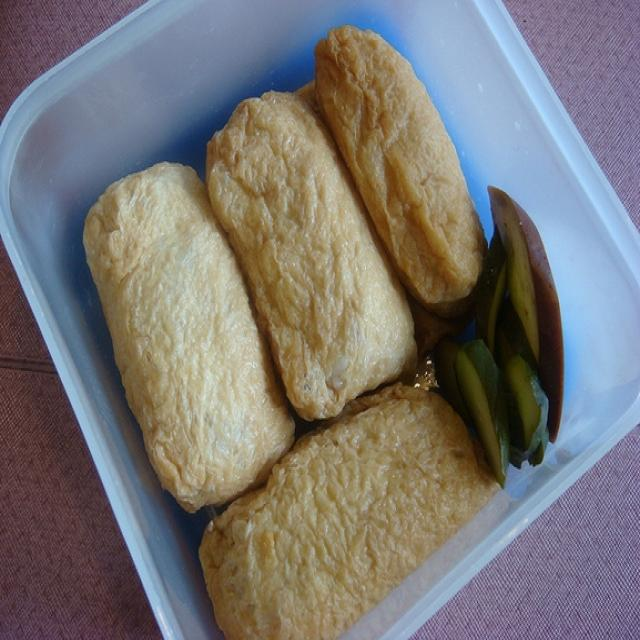寿司卷物: (50, 27, 579, 634)
